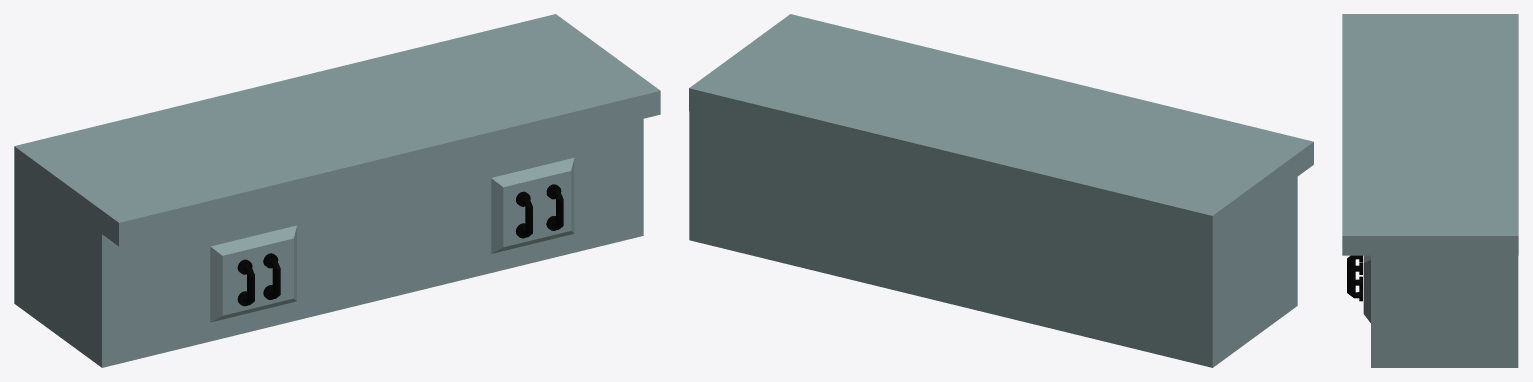
The model's file is barra.obj.
The picture shows the model from 3 angles, left to right: view 1: azimuth 30°, elevation 25°; view 2: azimuth 150°, elevation 25°; view 3: azimuth 270°, elevation 25°; orthographic projection. The views are drawn at different scales.
Visible parts, largest first — view 1: pCube7, pCube8, pCylinder9, pCylinder8, pCylinder10, pCylinder11; view 2: pCube7, pCube8; view 3: pCube8, pCube7, pCylinder10, pCylinder11.
Part boxes in pixels (x1=…): pCube7: x1=14, y1=119, x2=643, y2=367; pCube8: x1=14, y1=14, x2=660, y2=246; pCylinder9: x1=263, y1=253, x2=280, y2=299; pCylinder8: x1=237, y1=259, x2=254, y2=306; pCylinder10: x1=546, y1=184, x2=563, y2=230; pCylinder11: x1=515, y1=191, x2=532, y2=238; pCube7: x1=689, y1=111, x2=1297, y2=367; pCube8: x1=689, y1=14, x2=1313, y2=238; pCube8: x1=1342, y1=14, x2=1518, y2=255; pCube7: x1=1363, y1=254, x2=1518, y2=367; pCylinder10: x1=1347, y1=262, x2=1362, y2=301; pCylinder11: x1=1347, y1=255, x2=1362, y2=288.
Bounding box in the file's own units: 7.08 × 1.97 × 2.38.
4 materials, 4 textured.
